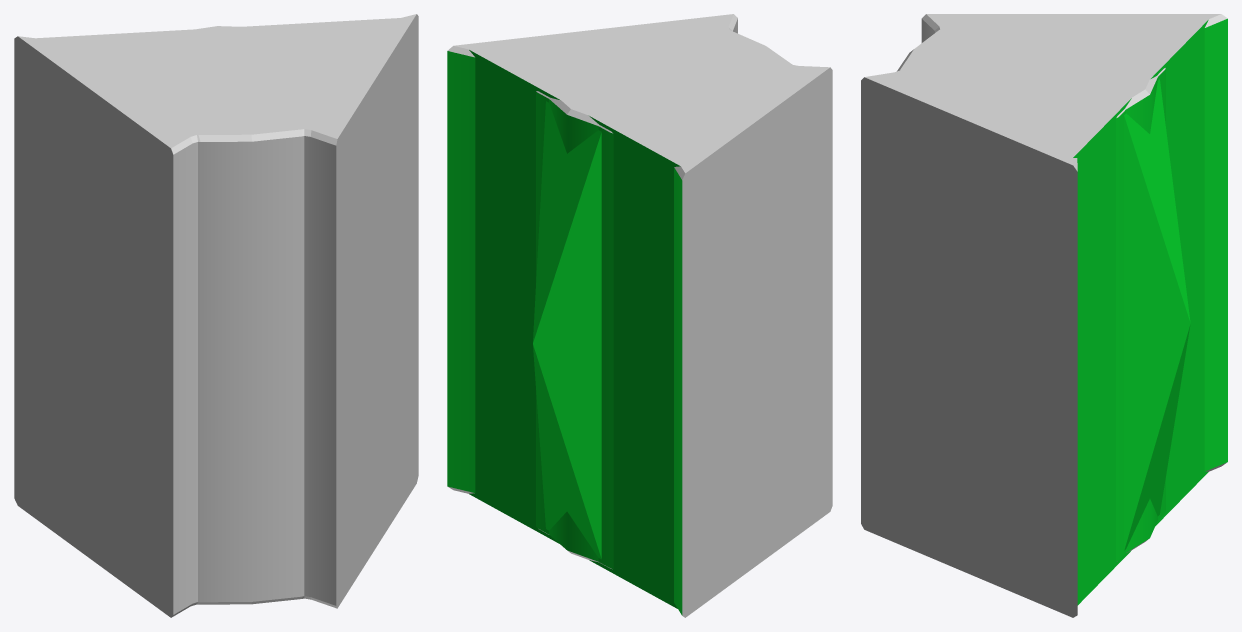
The model's file is Triangle stack.fbx.
3 views of the same model, side by side, from view 1: azimuth 30°, elevation 25°; view 2: azimuth 150°, elevation 25°; view 3: azimuth 270°, elevation 25° (orthographic). The views are drawn at different scales.
Visible parts, largest first — view 1: stack_lp_8_03, stack_lp_8_05, stack_lp_8_01, stack_lp_8_04, stack_lp_8_02; view 2: stack_lp_8_01, stack_lp_8_05, stack_lp_8_04, stack_lp_8_02, stack_lp_8_03; view 3: stack_lp_8_01, stack_lp_8_04, stack_lp_8_03, stack_lp_8_05, stack_lp_8_02.
Part boxes in pixels (x1,y1,x2,y2): stack_lp_8_03: [14, 14, 418, 604]; stack_lp_8_05: [66, 26, 390, 617]; stack_lp_8_01: [21, 18, 414, 591]; stack_lp_8_04: [40, 54, 405, 609]; stack_lp_8_02: [40, 26, 405, 596]; stack_lp_8_01: [469, 49, 726, 610]; stack_lp_8_05: [536, 14, 832, 582]; stack_lp_8_04: [533, 75, 820, 590]; stack_lp_8_02: [501, 45, 819, 601]; stack_lp_8_03: [447, 19, 804, 617]; stack_lp_8_01: [891, 19, 1208, 615]; stack_lp_8_04: [879, 79, 1190, 604]; stack_lp_8_03: [896, 14, 1227, 617]; stack_lp_8_05: [861, 14, 1157, 552]; stack_lp_8_02: [879, 14, 1176, 561].
Size of what is drawn, in the model's own units: 0.7268 by 1 by 0.7349.
